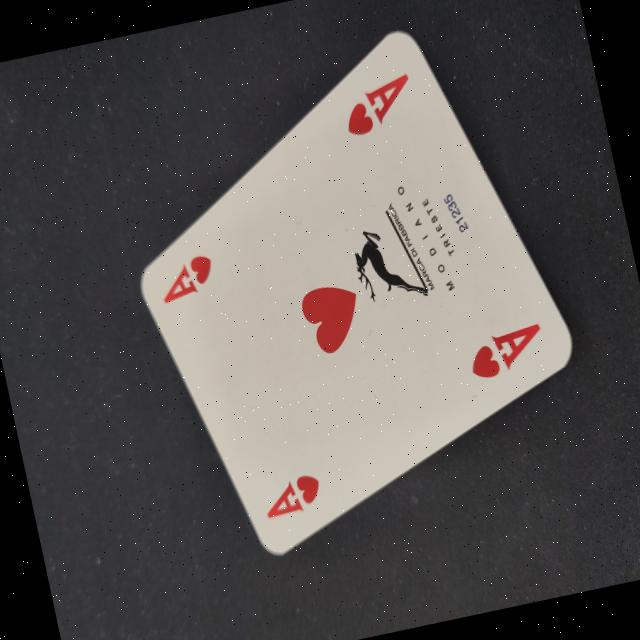Ah: (327, 42, 434, 154), (451, 293, 556, 394), (145, 236, 227, 320), (253, 460, 338, 532)
